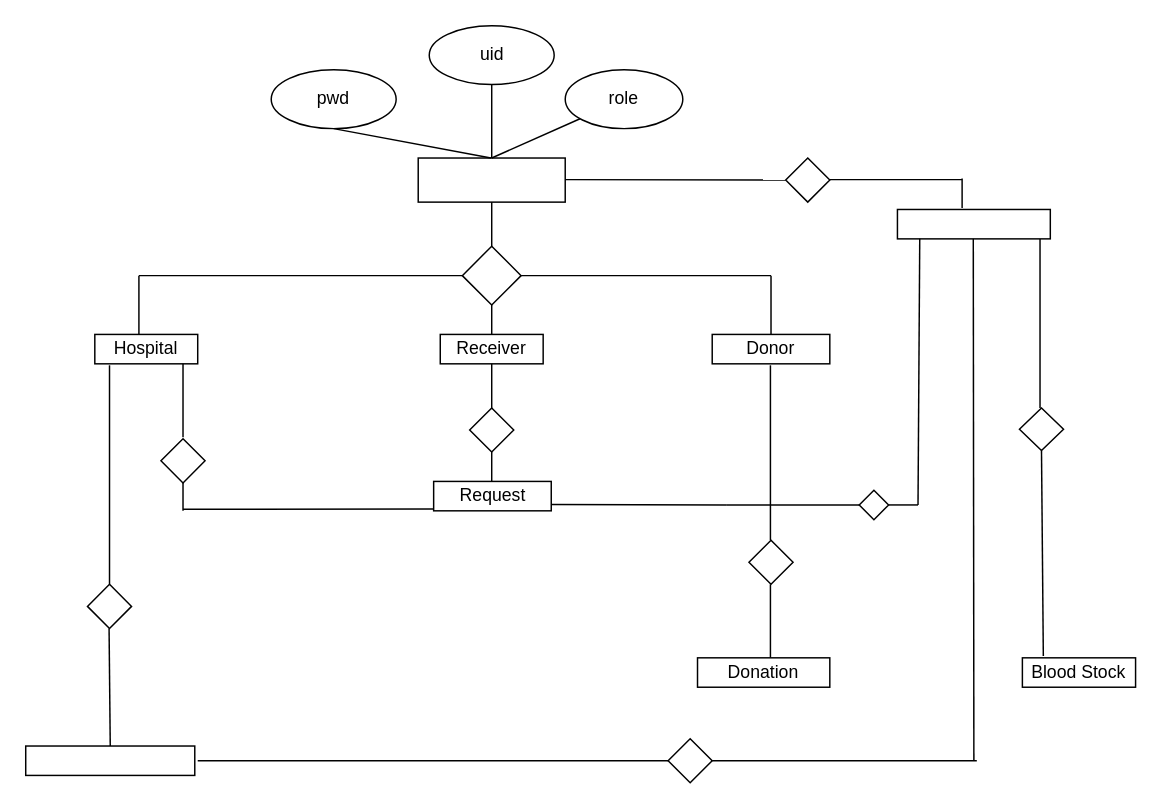
This 1161x809 diagram has some shape labels left out. Here are the shapes that lost their labels. From the top down, the centre of each, then its label:
At (x=491, y=179): "User".
At (x=973, y=223): "Blood Bank".
At (x=109, y=760): "Blood Bank-Hospital".
